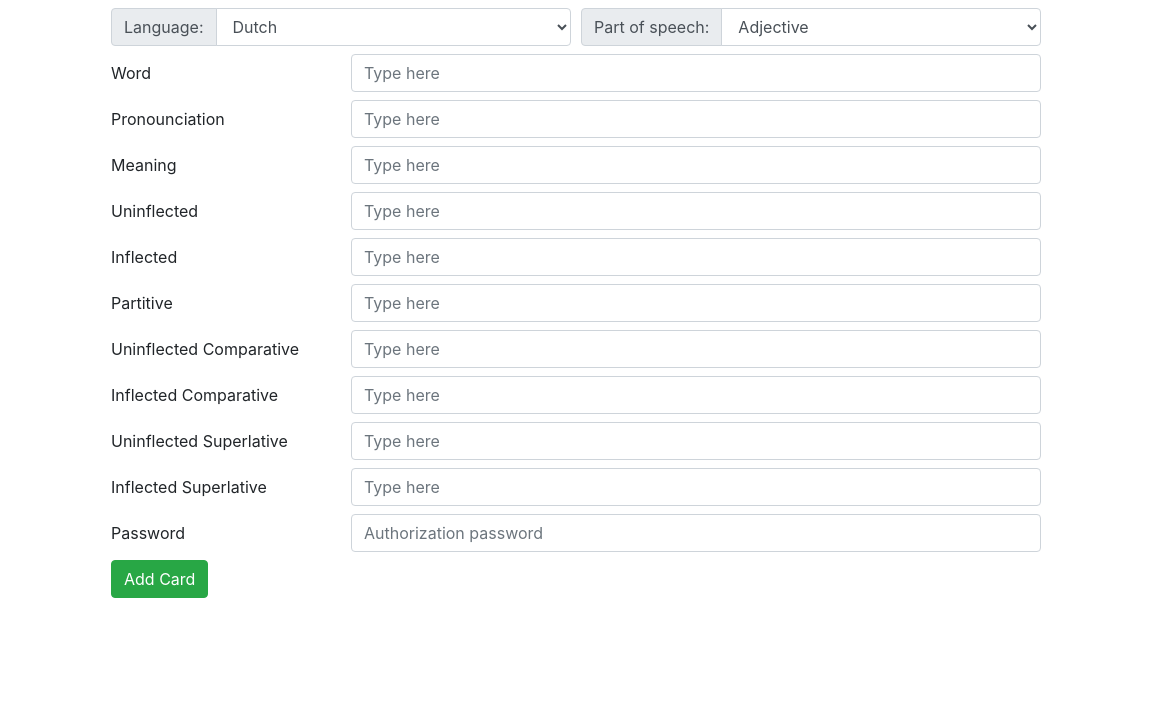
Scenario: renders AddCardModal after form was filled in
Select "Norwegian" in the dropdown with test id "testLangDropdown" at (393, 27), box [216,8,571,46]
Select "Noun" in the dropdown with test id "testSpeechDropdown" at (881, 27), box [721,8,1041,46]
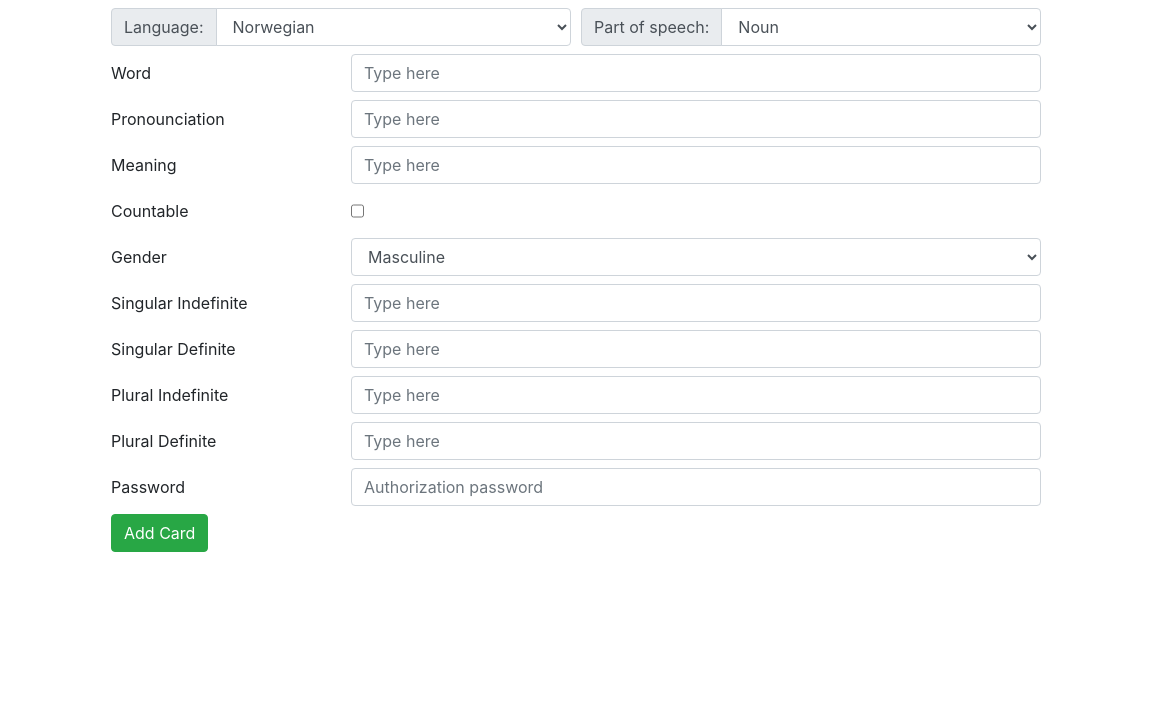
Type "hund" into the field with test id "testNorwegianNounWordInp" at (696, 73), box [351,54,1041,92]
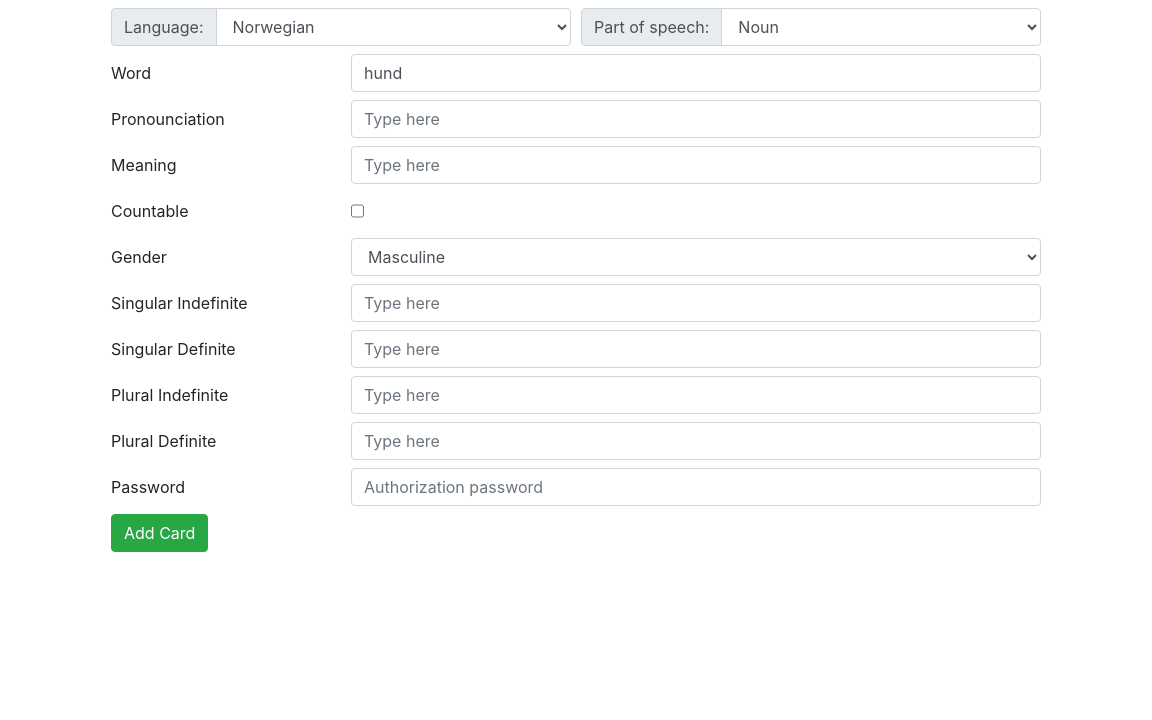
Type "'hun" into the field with test id "testNorwegianNounPronInp" at (696, 119), box [351,100,1041,138]
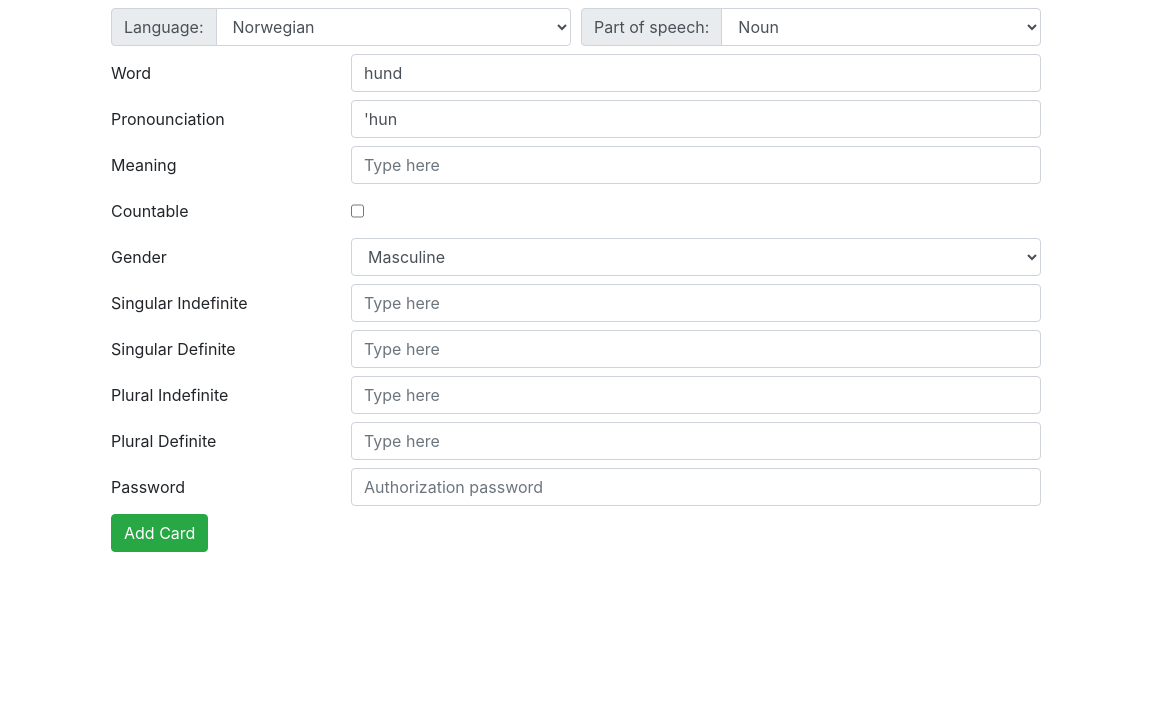
Type "Pies taki o" into the field with test id "testNorwegianNounMeanInp" at (696, 165), box [351,146,1041,184]
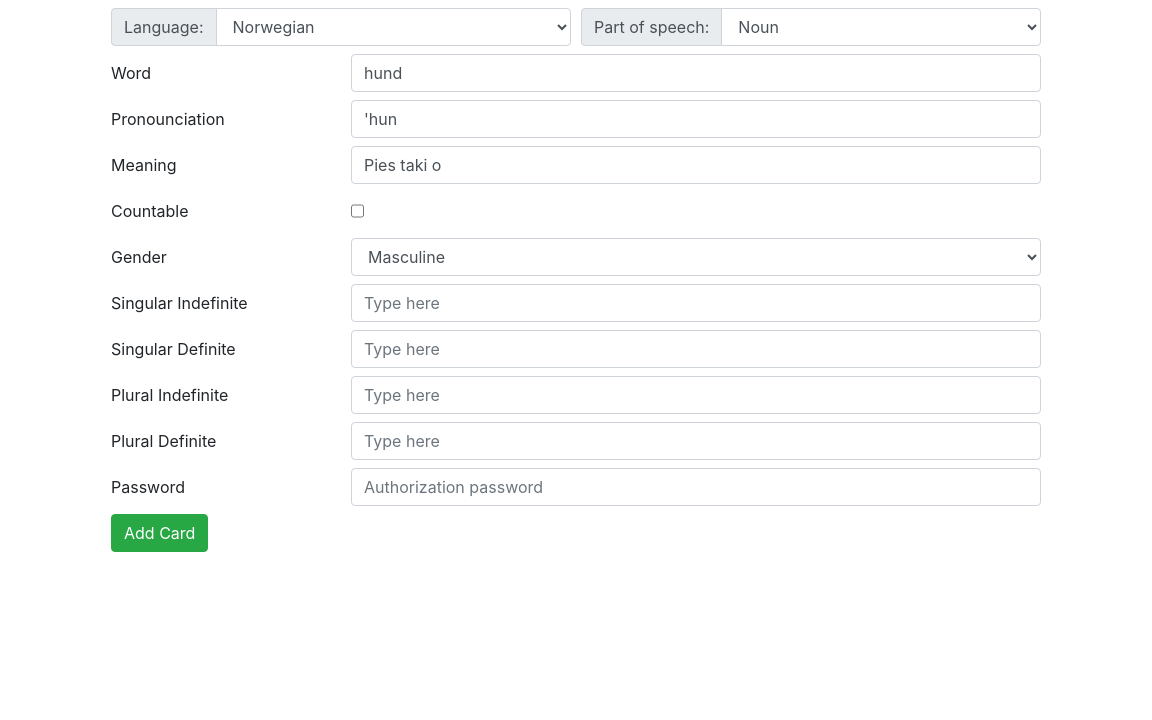
Click the button with test id "testNorwegianNounSubmit" at (160, 533), box [111,514,208,552]
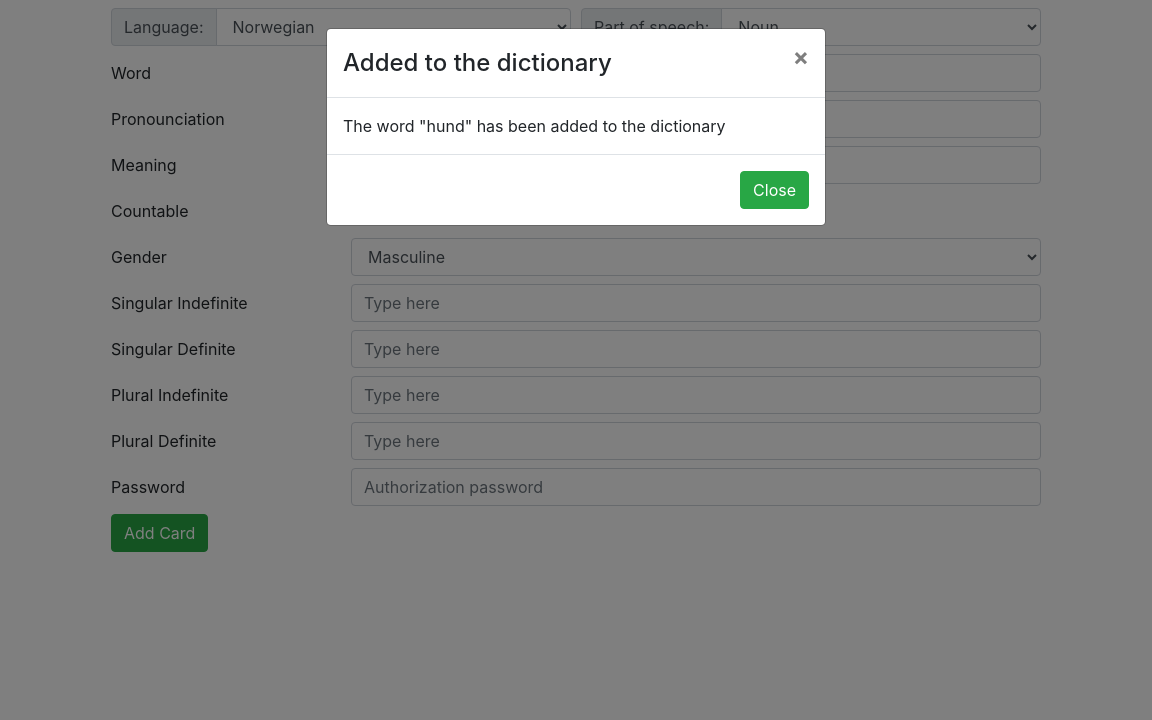
Now the element with test id "testAddCardModal" is shown, box [326,28,826,226]
Click the button with test id "testCloseAddModal" at (775, 190), box [740,171,809,209]
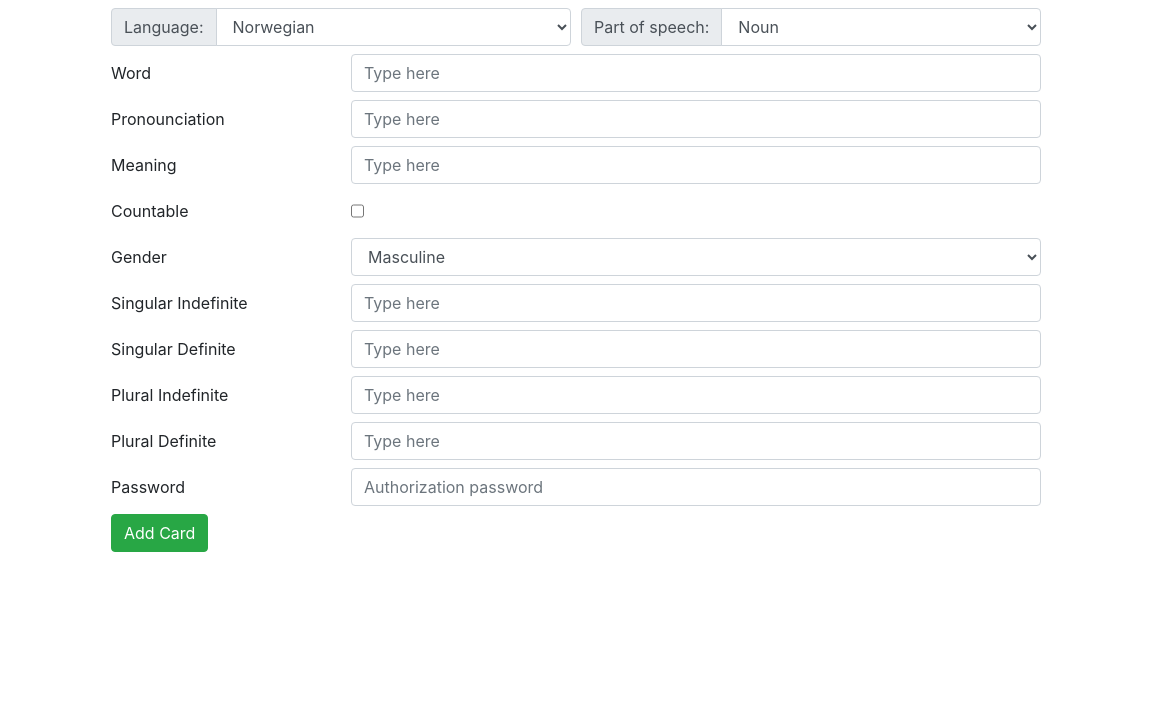
Now the element with test id "testAddCardModal" is gone
